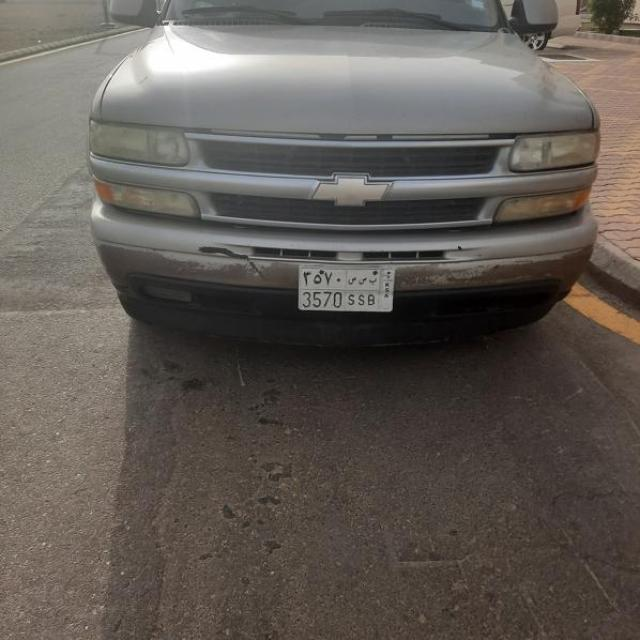license_plate: (300, 266, 392, 312)
